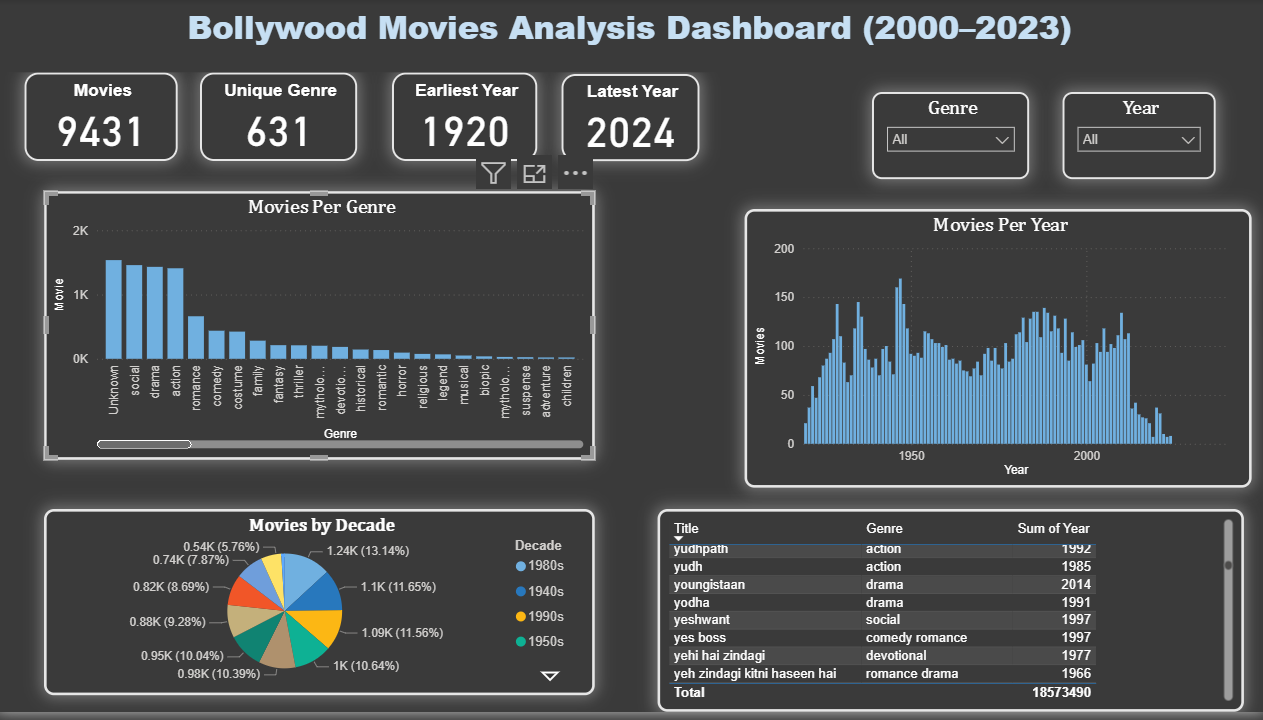

This screenshot's page, from the dashboard's own definition file:
{"tool":"powerbi","page":{"name":"Page 1","canvas":[1280,720],"ordinal":0},"visuals":[{"type":"card","title":"Movies","fields":{"Values":["CountNonNull(Movies.Title)"]},"box":[28.8,74.2,154.4,89.3],"z":0},{"type":"card","title":"Unique Genre","fields":{"Values":["Count(Movies.Genre)"]},"box":[205.9,74.2,159,89.3],"z":1000},{"type":"card","title":"Earliest Year","fields":{"Values":["Min(Movies.Year)"]},"box":[399.8,74.2,146.9,89.3],"z":2000},{"type":"card","title":"Latest Year","fields":{"Values":["Max(Movies.Year)"]},"box":[570.9,75.7,139.3,87.8],"z":3000},{"type":"clusteredColumnChart","title":"Movies Per Genre","fields":{"Category":["Movies.Primary_Genre"],"Y":["CountNonNull(Movies.Movie ID)"]},"box":[48.5,193.8,555.7,271],"z":4000},{"type":"clusteredColumnChart","title":"Movies Per Year","fields":{"Category":["Movies.Year"],"Y":["CountNonNull(Movies.Movie ID)"]},"box":[755.6,212,511.8,281.6],"z":5000},{"type":"slicer","title":"Year","fields":{"Values":["Movies.Year"]},"box":[1076.6,93.9,154.4,87.8],"z":6000},{"type":"slicer","title":"Genre","fields":{"Values":["Movies.Genre"]},"box":[884.3,93.9,159,87.8],"z":7000},{"type":"textbox","box":[0,0,1279.5,74.2],"z":8000},{"type":"pieChart","fields":{"Category":["Movies.Decade"],"Y":["CountNonNull(Movies.Movie ID)"]},"box":[48.5,514.8,555.7,187.8],"z":8001},{"type":"tableEx","fields":{"Values":["Movies.Title","Movies.Genre","Sum(Movies.Year)"]},"box":[667.8,514.8,592.1,204.4],"z":8002}]}

Visuals, with their boxes in screenshot pixels (x1, y1, x2, y2), scaled from the page's 1280x720 canvas onto the 1263x720 screenshot:
"Movies" card: <box>28,74,181,164</box>
"Unique Genre" card: <box>203,74,360,164</box>
"Earliest Year" card: <box>394,74,539,164</box>
"Latest Year" card: <box>563,76,701,164</box>
"Movies Per Genre" clusteredColumnChart: <box>48,194,596,465</box>
"Movies Per Year" clusteredColumnChart: <box>746,212,1251,494</box>
"Year" slicer: <box>1062,94,1215,182</box>
"Genre" slicer: <box>873,94,1029,182</box>
textbox: <box>0,0,1262,74</box>
pieChart - Movies.Decade x CountNonNull(Movies.Movie ID): <box>48,515,596,703</box>
tableEx - Movies.Title x Movies.Genre: <box>659,515,1243,719</box>
